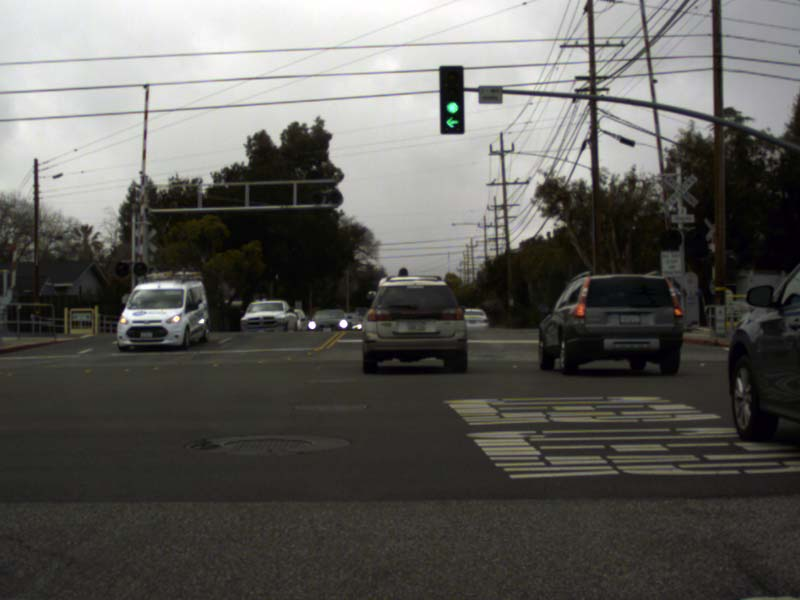Green: (438, 65, 465, 134)
